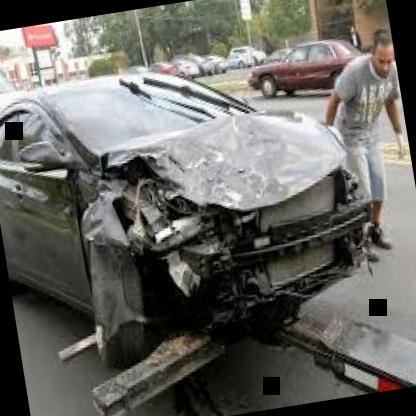accident: (0, 26, 409, 402)
